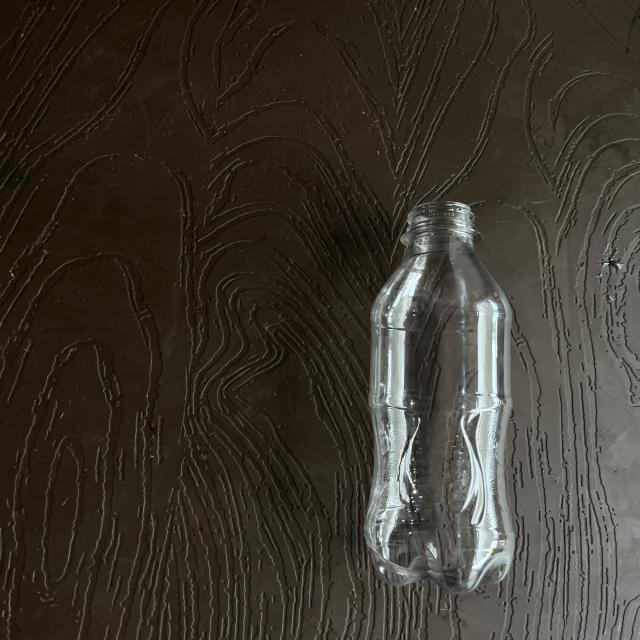PET_ClearBottle: (357, 201, 571, 594)
